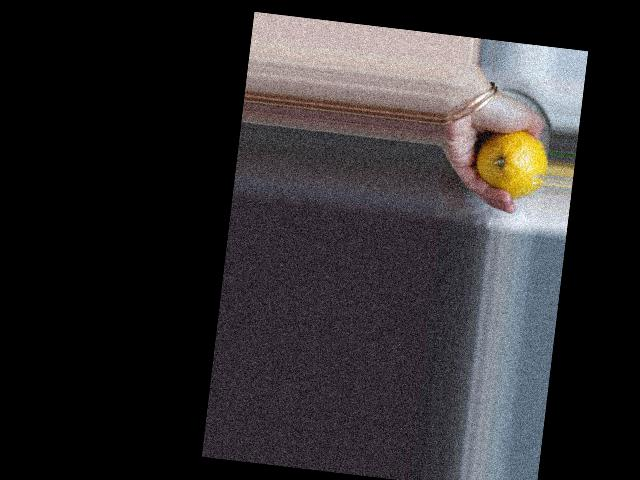lemon: (470, 130, 549, 206)
